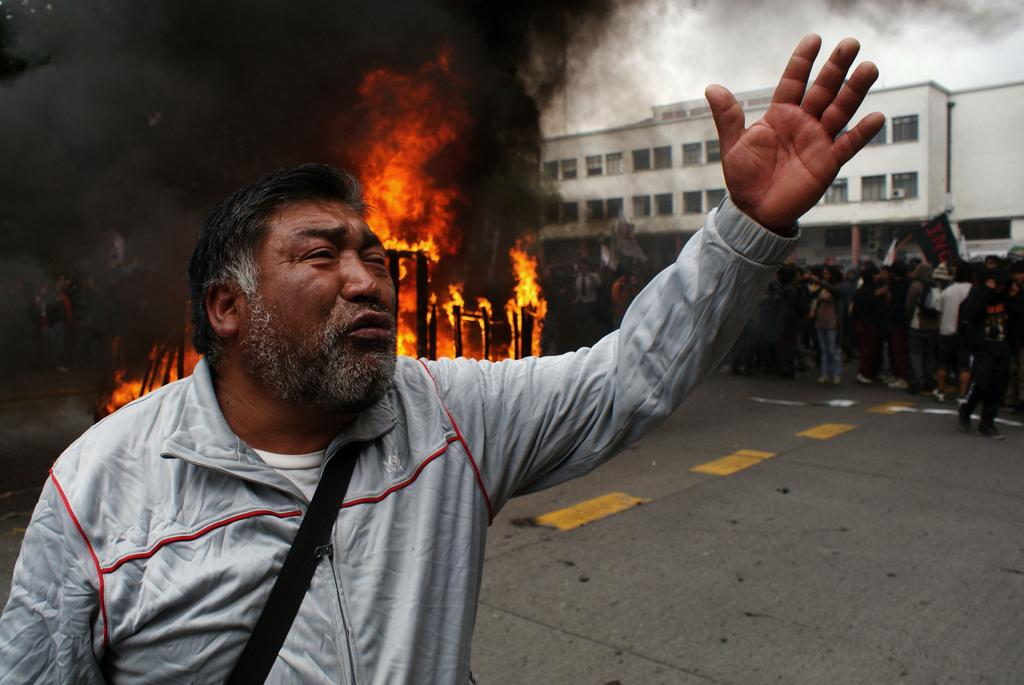fire: (355, 82, 448, 245), (507, 250, 535, 320)
